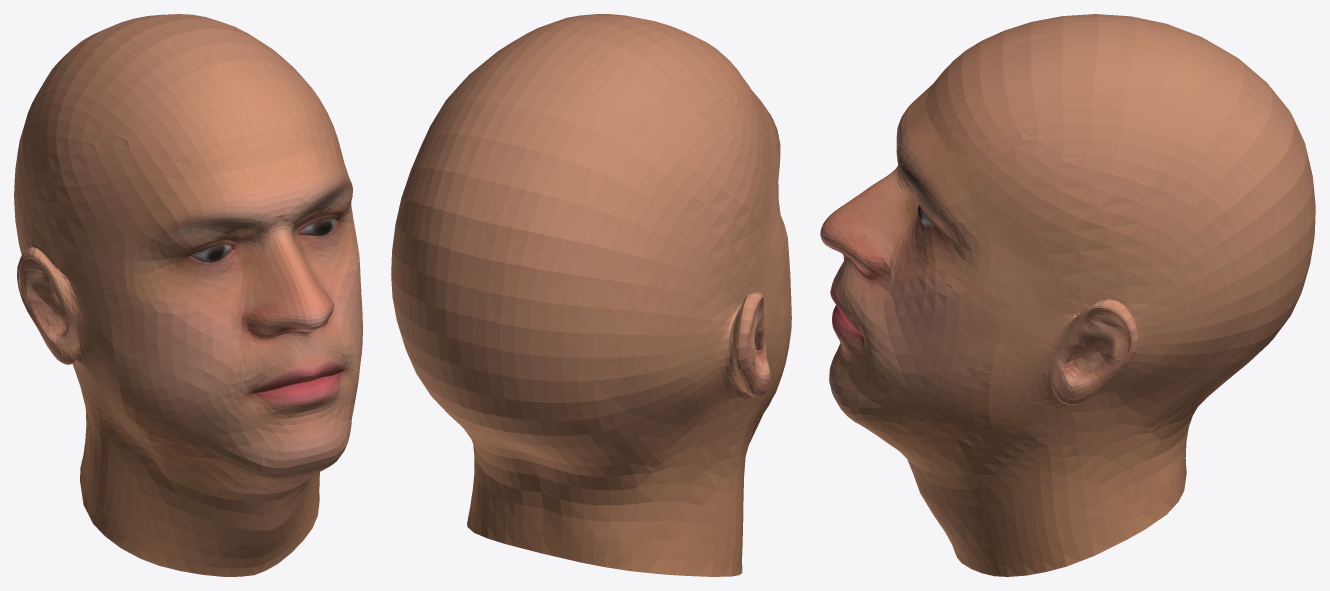
Rendered from face_male.obj.
The picture shows the model from 3 angles, left to right: view 1: azimuth 30°, elevation 25°; view 2: azimuth 150°, elevation 25°; view 3: azimuth 270°, elevation 25°; orthographic projection. The views are drawn at different scales.
Visible parts, largest first — view 1: skin_hi, eyeR_hi; view 2: skin_hi; view 3: skin_hi.
Part boxes in pixels (box(x1,y1,x2,y2)): skin_hi: box(14, 14, 362, 576); eyeR_hi: box(191, 244, 231, 262); skin_hi: box(391, 14, 791, 576); skin_hi: box(820, 14, 1315, 576).
Size of the model in its own units: 182 by 279 by 239.
7 materials, 7 textured.
